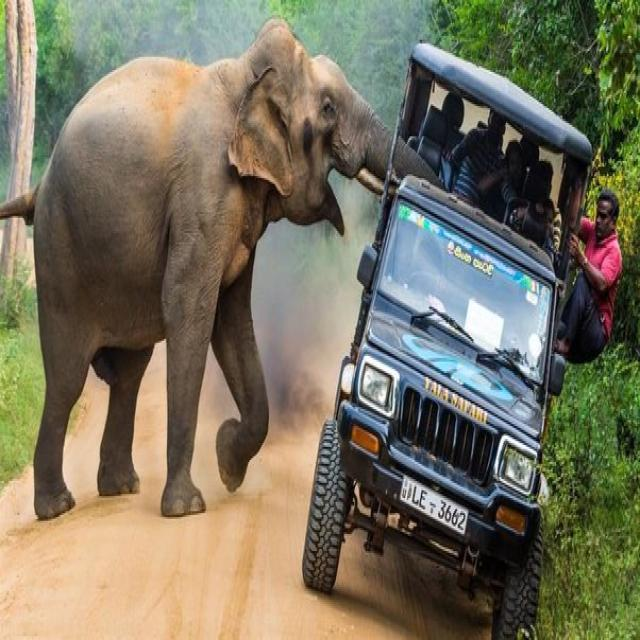Elephant: (4, 19, 437, 526)
